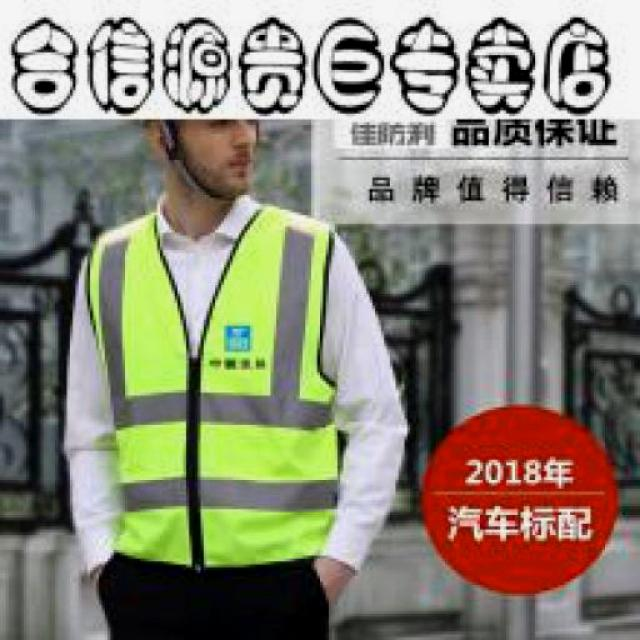face_nomask: (204, 115, 266, 184)
person: (56, 114, 410, 640)
vest: (78, 198, 352, 570)
